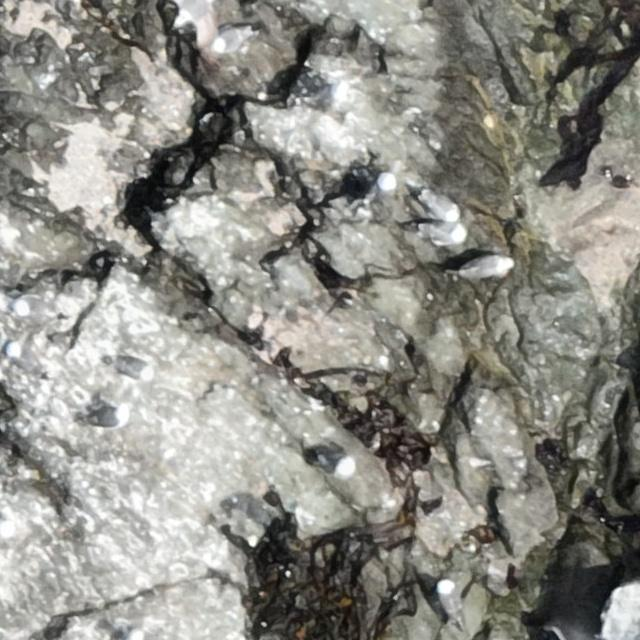umineko: (6, 344, 51, 380), (418, 186, 460, 222), (15, 295, 63, 322), (318, 444, 355, 479), (419, 222, 471, 246), (368, 174, 396, 212), (464, 256, 509, 277), (112, 359, 154, 380), (213, 27, 248, 51), (89, 408, 127, 427), (436, 578, 456, 612)
